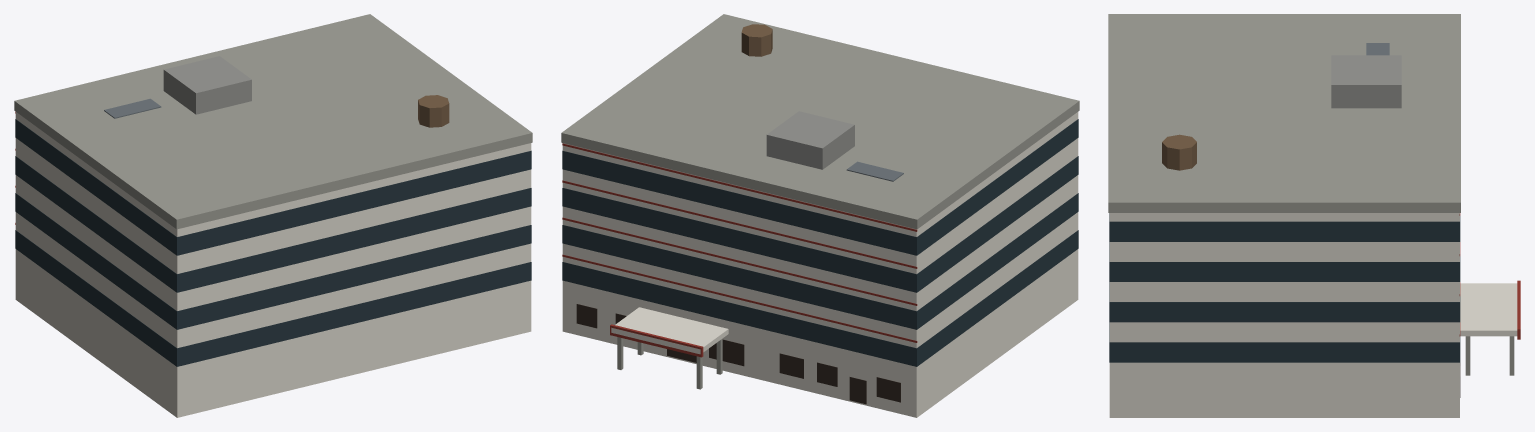
The model's file is metro_hospital_lod1.glb.
The picture shows the model from 3 angles, left to right: view 1: azimuth 30°, elevation 25°; view 2: azimuth 150°, elevation 25°; view 3: azimuth 270°, elevation 25°; orthographic projection. The views are drawn at different scales.
Parts seen in each view (by area): view 1: metro_hospital_lod1; view 2: metro_hospital_lod1; view 3: metro_hospital_lod1.
Boxes of the visible parts, x1,y1,x2,y2 form: metro_hospital_lod1: (14, 14, 532, 417); metro_hospital_lod1: (561, 14, 1079, 417); metro_hospital_lod1: (1108, 14, 1520, 417).
Bounding box in the file's own units: 38.2 × 22.8 × 35.3.
Materials: 2 (2 with a texture image).
